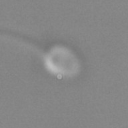normal: (1, 27, 47, 57)
